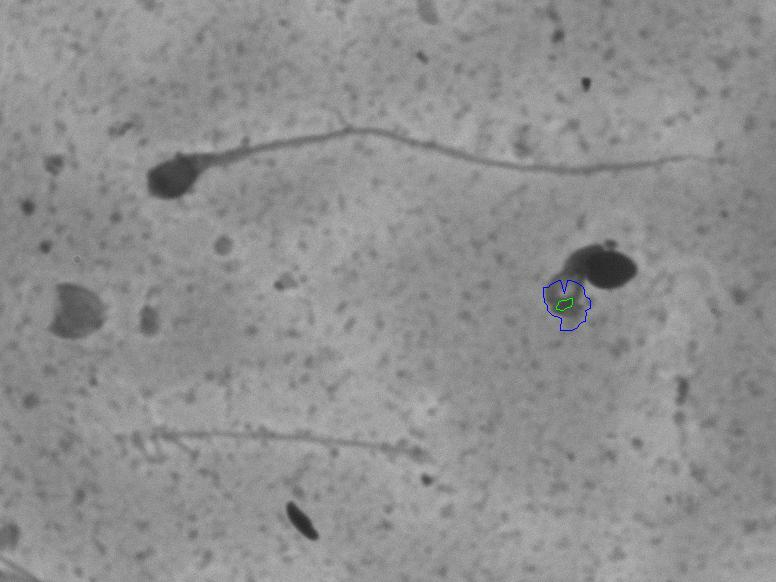Abnormal: (118, 110, 737, 222)
